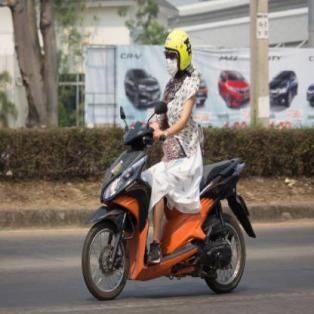Motocicleta: (80, 113, 252, 300)
